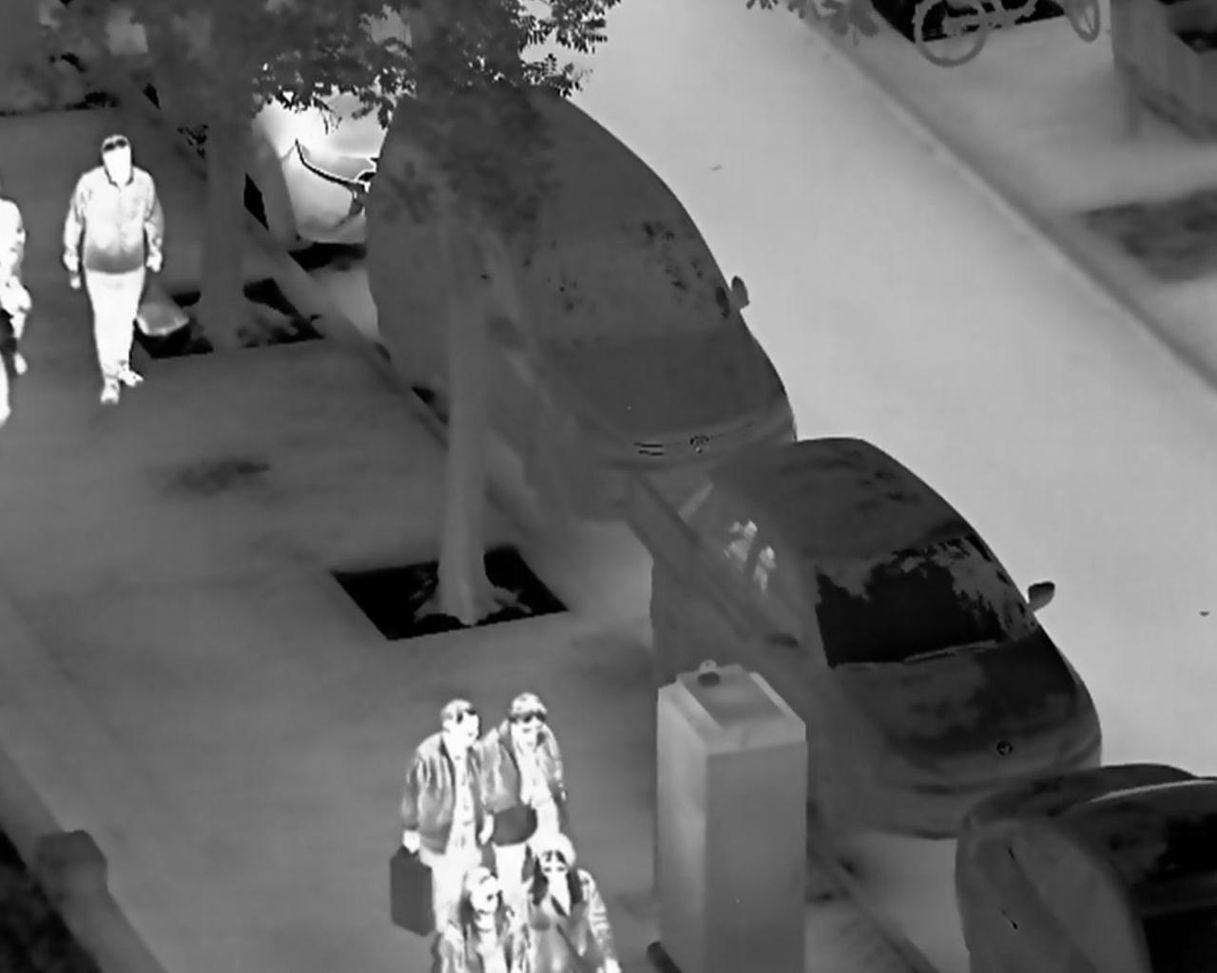person: (61, 133, 166, 404), (401, 696, 494, 940), (475, 691, 579, 909), (510, 832, 621, 973), (431, 862, 520, 973)
